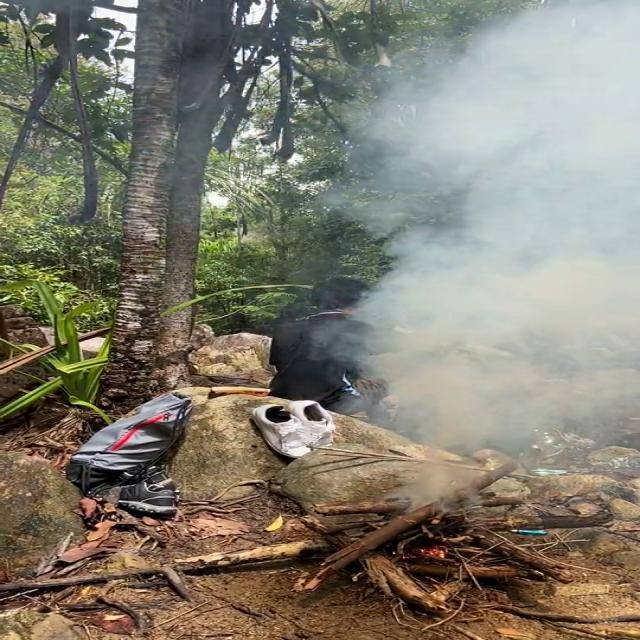smoke: (345, 290, 621, 399), (351, 140, 634, 244), (388, 52, 640, 158), (392, 248, 640, 347), (386, 383, 625, 438), (505, 0, 638, 78)
